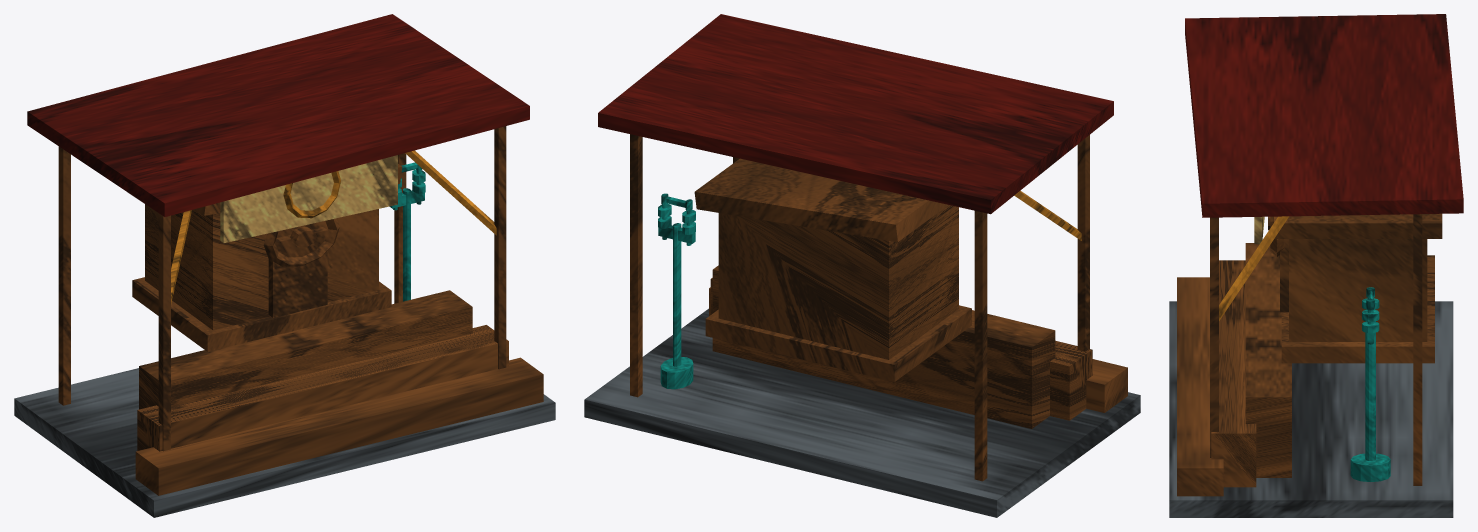
File: north-crowd-counting-rostrum.glb
3 views of the same model, side by side, from view 1: azimuth 30°, elevation 25°; view 2: azimuth 150°, elevation 25°; view 3: azimuth 270°, elevation 25° (orthographic). The views are drawn at different scales.
Visible parts, largest first — view 1: north-crowd-counting-rostrum; view 2: north-crowd-counting-rostrum; view 3: north-crowd-counting-rostrum.
Boxes of the visible parts, x1,y1,x2,y2 form: north-crowd-counting-rostrum: [14, 14, 555, 517]; north-crowd-counting-rostrum: [584, 14, 1140, 517]; north-crowd-counting-rostrum: [1169, 14, 1463, 517].
Bounding box in the file's own units: 7.3 × 5.29 × 4.56.
1 material, 1 textured.
